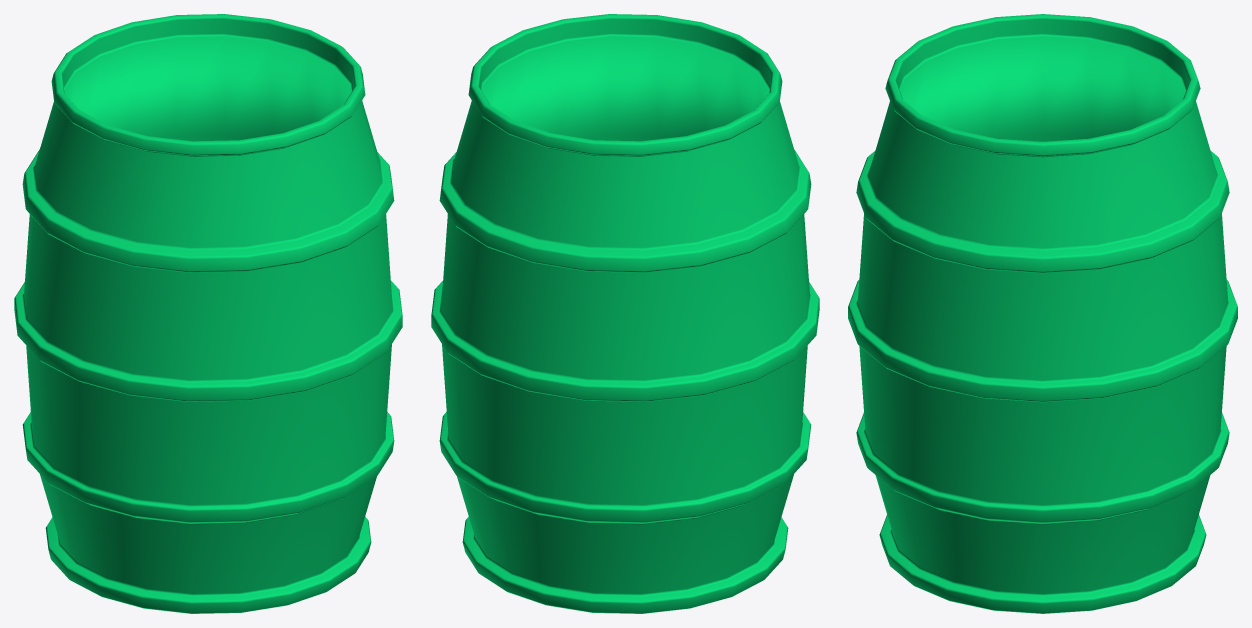
The model's file is SM_Open_Barrel_01.fbx.
The picture shows the model from 3 angles, left to right: view 1: azimuth 30°, elevation 25°; view 2: azimuth 150°, elevation 25°; view 3: azimuth 270°, elevation 25°; orthographic projection.
Visible parts, largest first — view 1: polySurface115; view 2: polySurface115; view 3: polySurface115.
Boxes of the visible parts, x1,y1,x2,y2 form: polySurface115: [14, 14, 402, 613]; polySurface115: [431, 14, 819, 613]; polySurface115: [848, 14, 1237, 613].
Bounding box in the file's own units: 74.44 × 98.62 × 74.44.
